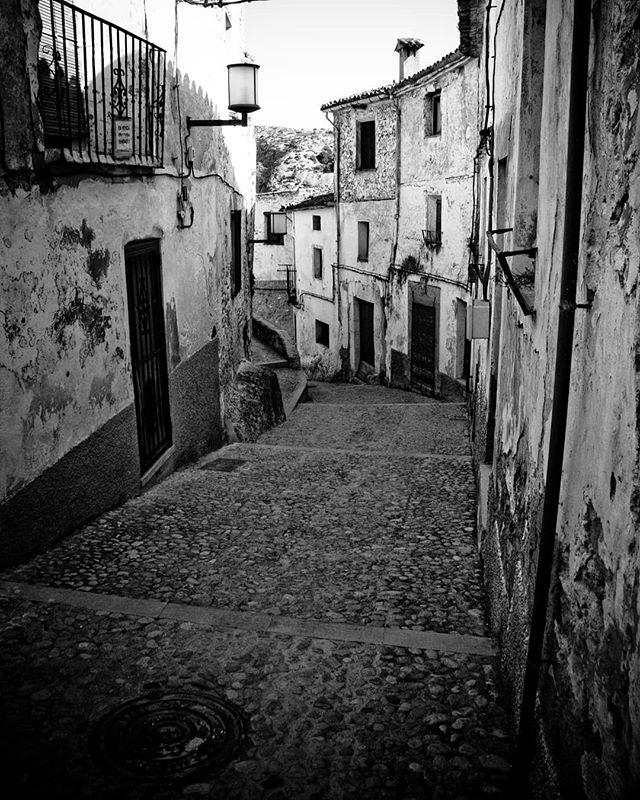building: (462, 1, 640, 774), (1, 1, 243, 557), (288, 51, 481, 388)
manhole cover: (64, 675, 272, 800)
